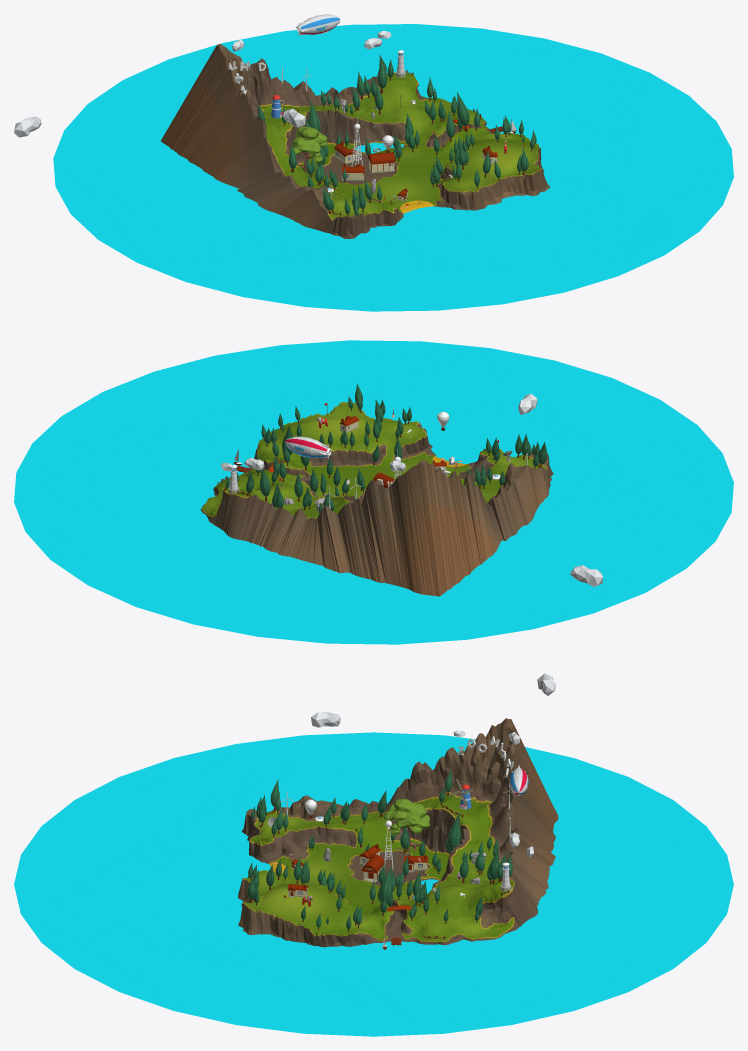
Rendered from Zoomland-transformed.glb.
3 views of the same model, one above another, from view 1: azimuth 30°, elevation 25°; view 2: azimuth 150°, elevation 25°; view 3: azimuth 270°, elevation 25° (orthographic). The views are drawn at different scales.
Visible parts, largest first — view 1: tree.001, Land; view 2: tree.001, Land; view 3: tree.001, Land.
Part boxes in pixels (left/top/right/bottom): tree.001: left=14, top=14, right=733, bottom=311; Land: left=161, top=44, right=550, bottom=238; tree.001: left=14, top=340, right=733, bottom=644; Land: left=200, top=402, right=553, bottom=596; tree.001: left=14, top=673, right=733, bottom=1036; Land: left=238, top=718, right=558, bottom=947.
Size of the model in its own units: 46.86 by 8.58 by 46.68.
7 materials, 7 textured.
